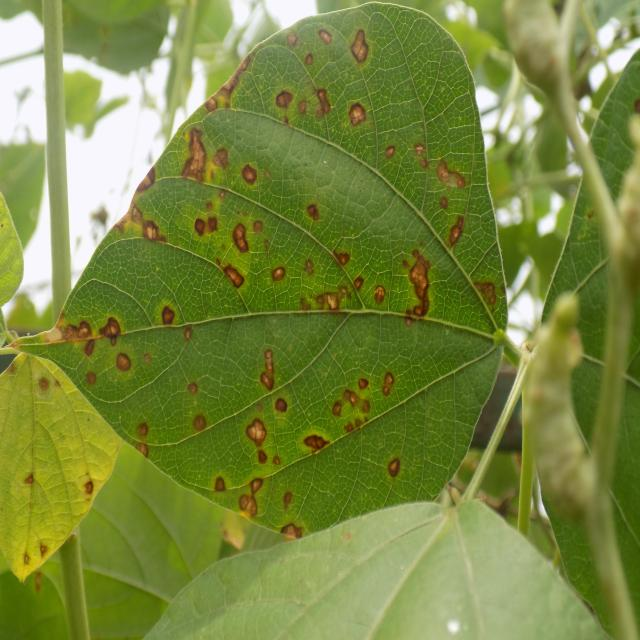Dolicos bean_cercospora leaf spot: (8, 0, 506, 543)
